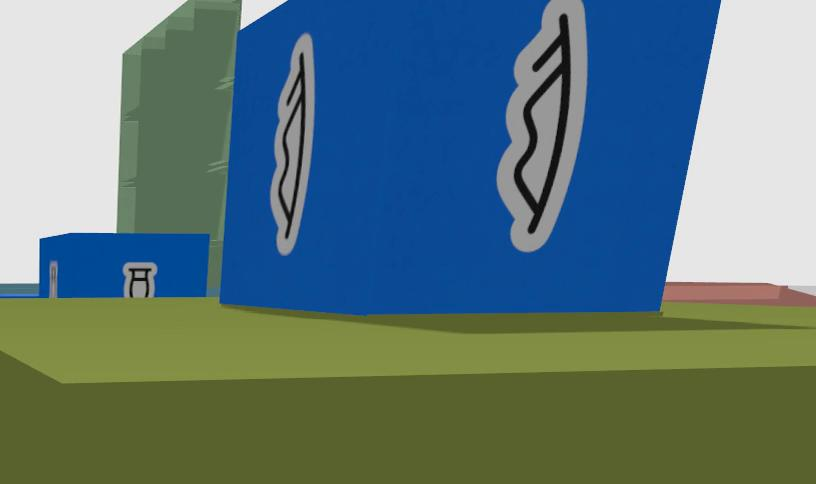KFS_REAL: (497, 0, 586, 251), (269, 33, 313, 254), (122, 263, 156, 297), (47, 261, 58, 298)
